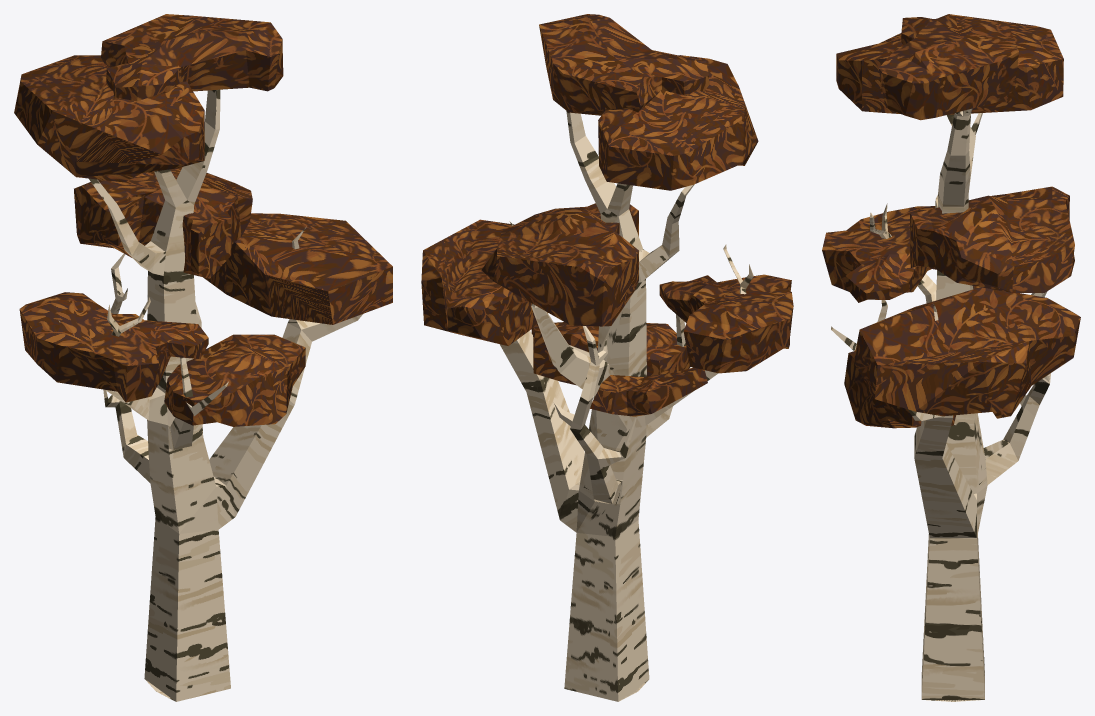
The model's file is D_Tree_small_lower_poly.fbx.
3 views of the same model, side by side, from view 1: azimuth 30°, elevation 25°; view 2: azimuth 150°, elevation 25°; view 3: azimuth 270°, elevation 25° (orthographic).
Parts seen in each view (by area): view 1: tree; view 2: tree; view 3: tree.
Part boxes in pixels (x1=…): tree: x1=14, y1=14, x2=392, y2=701; tree: x1=421, y1=14, x2=793, y2=701; tree: x1=822, y1=14, x2=1080, y2=701.
Size of the model in its own units: 8.09 by 14.37 by 5.16.
